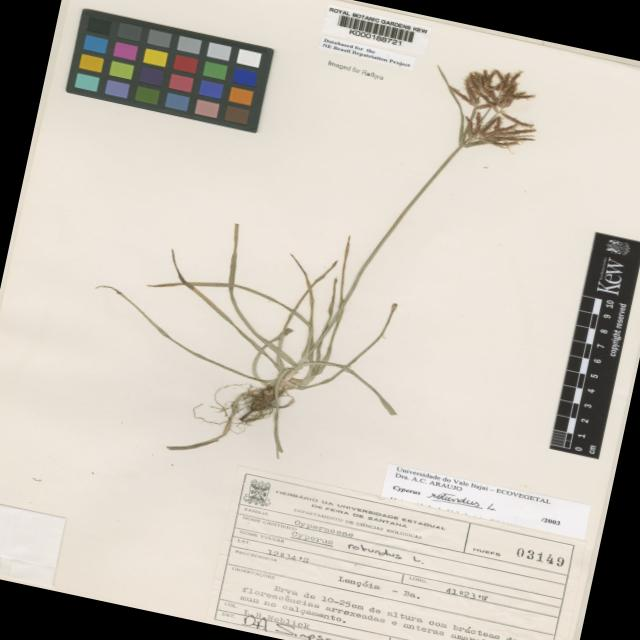cyperus: (416, 50, 566, 169)
